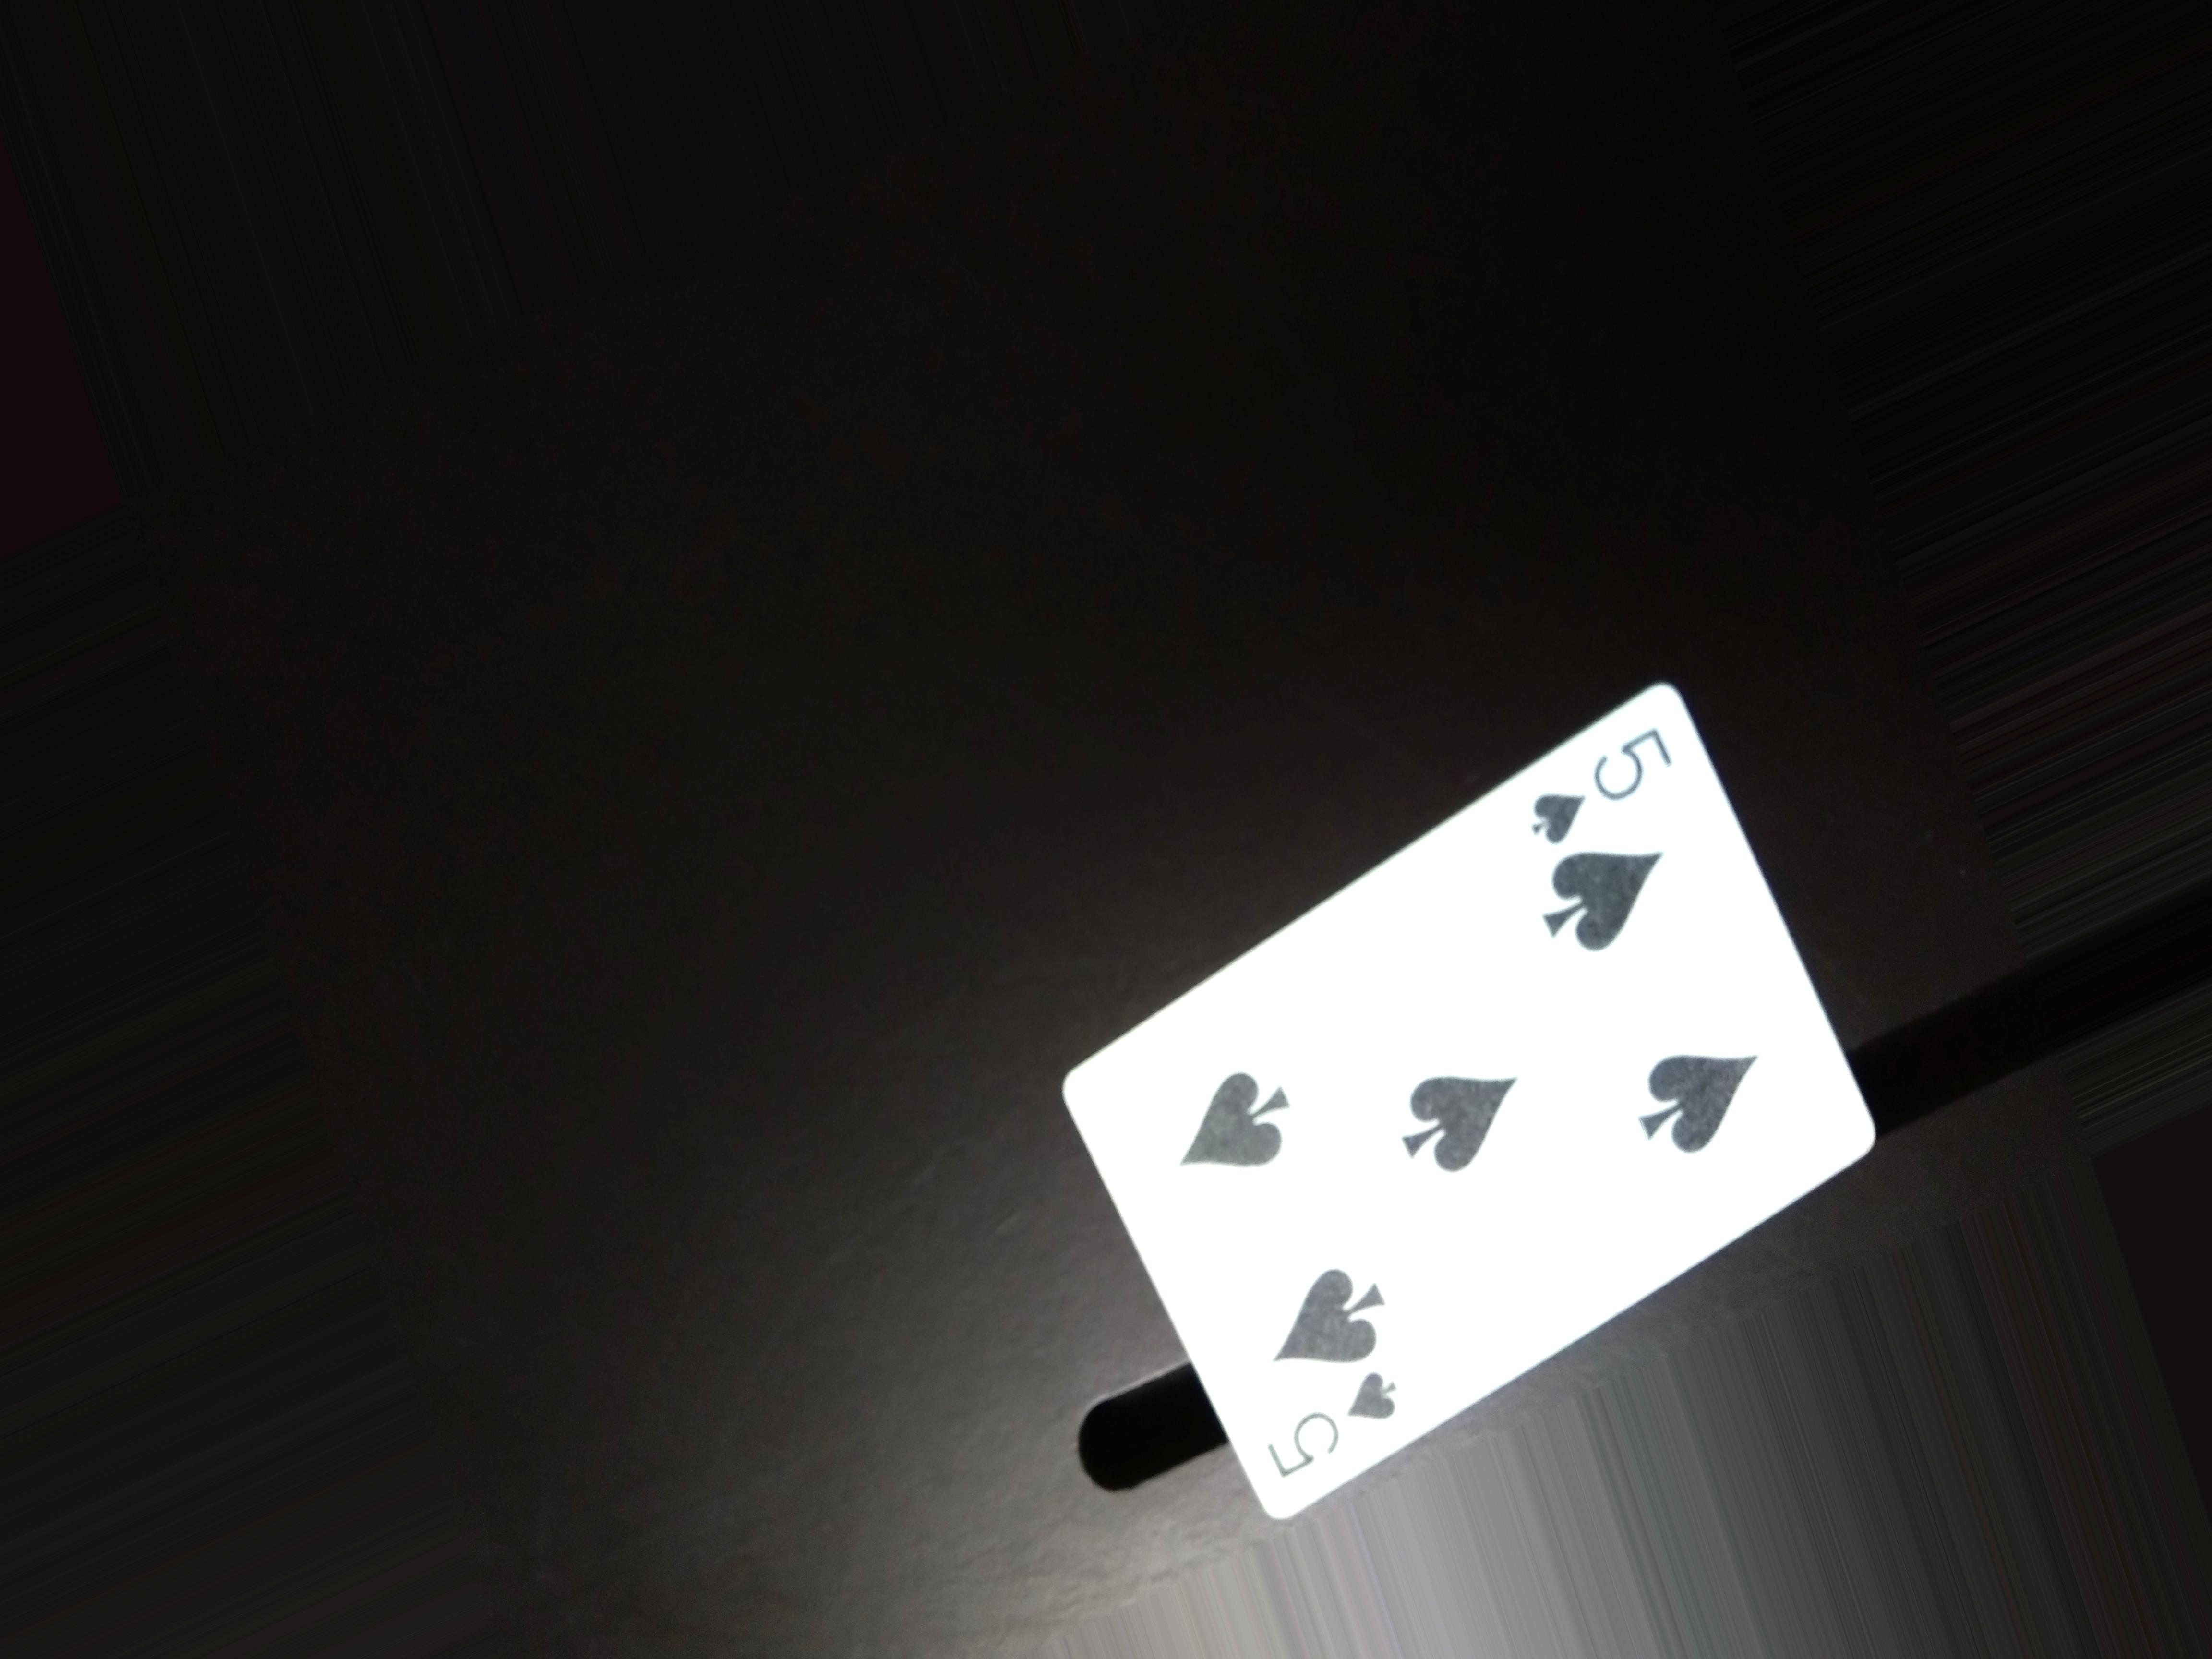5S: (1522, 725, 1672, 847)
